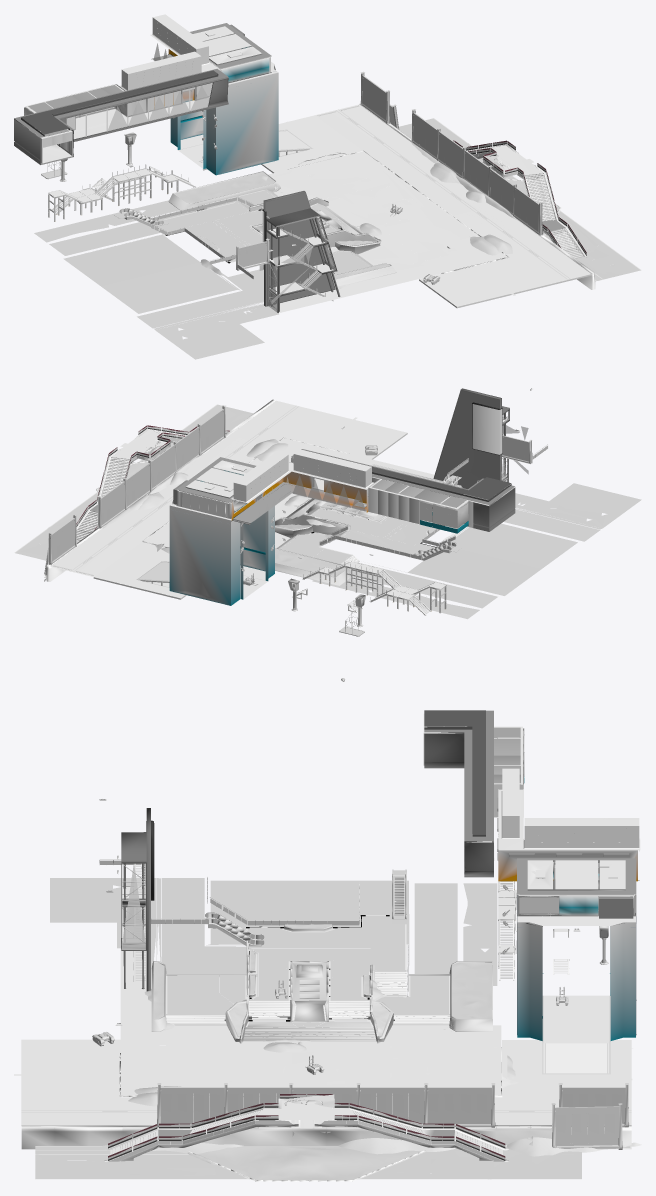
File: cell_83_57.fbx
3 renders of one model, top to bottom at view 1: azimuth 30°, elevation 25°; view 2: azimuth 150°, elevation 25°; view 3: azimuth 270°, elevation 25°, orthographic. The views are drawn at different scales.
Parts seen in each view (by area): view 1: SM_I_RoadFacility_Ground_H_14.mo, SM_I_RoadFacility_Ground_FutureTech_H_01.mo.001, SM_H_Building_FutureTech_HTerrace_01.mo, SM_H_Building_FutureTech_HLight_01_InterWall_09.mo, SM_I_RoadFacility_Ground_FutureTech_H_01B.mo.001, SM_H_Building_FutureTech_HStairs_03_ExterWall_01.mo, SM_H_Building_FutureTech_HStairs_04_ExterWall_01C.mo, SM_H_Building_FutureTech_HStairs_04_InterWall_01F.mo, SM_H_Building_FutureTech_HLight_01_InterWall_11D.mo, SM_H_Building_FutureTech_Bridge_01P.mo, SM_H_Building_FutureTech_HLight_01_InterWall_03.mo, SM_I_RoadFacility_Ground_H_15.mo (+11 smaller); view 2: SM_I_RoadFacility_Ground_H_14.mo, SM_H_Building_FutureTech_HLight_01_InterWall_09.mo, SM_I_RoadFacility_Ground_FutureTech_H_01.mo.001, SM_H_Building_FutureTech_HTerrace_01.mo, SM_I_RoadFacility_Ground_FutureTech_H_01B.mo.001, SM_H_Building_FutureTech_HLight_01_InterWall_11D.mo, SM_H_Building_FutureTech_HStairs_04_InterWall_01F.mo, SM_H_Building_FutureTech_HStairs_03_ExterWall_01.mo, SM_H_Building_FutureTech_HStairs_04_ExterWall_01C.mo, SM_H_Building_FutureTech_HLight_01_InterWall_03.mo, SM_H_Building_FutureTech_Bridge_01P.mo, SM_H_WalkwaySystem_MetalSupport_07.mo (+11 smaller); view 3: SM_I_RoadFacility_Ground_H_14.mo, SM_H_Building_FutureTech_HTerrace_01.mo, SM_I_RoadFacility_Ground_H_15.mo, SM_I_RoadFacility_Ground_FutureTech_H_01.mo.001, SM_I_RoadFacility_Ground_FutureTech_H_01B.mo.001, SM_H_Building_FutureTech_HLight_01_InterWall_09.mo, SM_H_Building_FutureTech_Bridge_01P.mo, SM_H_Building_FutureTech_HLight_01_InterWall_11D.mo, SM_H_Building_FutureTech_HStairs_04_ExterWall_01C.mo, SM_H_Building_FutureTech_HLight_01_InterWall_03.mo, SM_I_RoadFacility_Ground_H_14B.mo, SM_H_Building_FutureTech_HStairs_03_ExterWall_01.mo (+18 smaller).
Part boxes in pixels (bbox=[...]): SM_I_RoadFacility_Ground_H_14.mo: bbox=[261, 104, 595, 313]; SM_I_RoadFacility_Ground_FutureTech_H_01.mo.001: bbox=[101, 262, 278, 359]; SM_H_Building_FutureTech_HTerrace_01.mo: bbox=[156, 171, 396, 286]; SM_H_Building_FutureTech_HLight_01_InterWall_09.mo: bbox=[170, 62, 278, 175]; SM_I_RoadFacility_Ground_FutureTech_H_01B.mo.001: bbox=[34, 200, 200, 286]; SM_H_Building_FutureTech_HStairs_03_ExterWall_01.mo: bbox=[263, 191, 340, 312]; SM_H_Building_FutureTech_HStairs_04_ExterWall_01C.mo: bbox=[14, 68, 228, 164]; SM_H_Building_FutureTech_HStairs_04_InterWall_01F.mo: bbox=[17, 74, 216, 163]; SM_H_Building_FutureTech_HLight_01_InterWall_11D.mo: bbox=[119, 14, 221, 105]; SM_H_Building_FutureTech_Bridge_01P.mo: bbox=[453, 140, 587, 258]; SM_H_Building_FutureTech_HLight_01_InterWall_03.mo: bbox=[190, 23, 271, 83]; SM_I_RoadFacility_Ground_H_15.mo: bbox=[399, 118, 640, 281]; SM_I_RoadFacility_Ground_H_14.mo: bbox=[46, 399, 434, 599]; SM_H_Building_FutureTech_HLight_01_InterWall_09.mo: bbox=[169, 482, 275, 605]; SM_I_RoadFacility_Ground_FutureTech_H_01.mo.001: bbox=[451, 483, 641, 569]; SM_H_Building_FutureTech_HTerrace_01.mo: bbox=[275, 464, 462, 586]; SM_I_RoadFacility_Ground_FutureTech_H_01B.mo.001: bbox=[312, 549, 540, 619]; SM_H_Building_FutureTech_HLight_01_InterWall_11D.mo: bbox=[231, 449, 374, 524]; SM_H_Building_FutureTech_HStairs_04_InterWall_01F.mo: bbox=[293, 458, 514, 533]; SM_H_Building_FutureTech_HStairs_03_ExterWall_01.mo: bbox=[433, 388, 509, 489]; SM_H_Building_FutureTech_HStairs_04_ExterWall_01C.mo: bbox=[291, 449, 515, 531]; SM_H_Building_FutureTech_HLight_01_InterWall_03.mo: bbox=[173, 457, 262, 518]; SM_H_Building_FutureTech_Bridge_01P.mo: bbox=[76, 425, 229, 540]; SM_H_WalkwaySystem_MetalSupport_07.mo: bbox=[302, 561, 446, 615]; SM_I_RoadFacility_Ground_H_14.mo: bbox=[21, 950, 631, 1149]; SM_H_Building_FutureTech_HTerrace_01.mo: bbox=[151, 914, 492, 1043]; SM_I_RoadFacility_Ground_H_15.mo: bbox=[35, 1146, 630, 1181]; SM_I_RoadFacility_Ground_FutureTech_H_01.mo.001: bbox=[50, 878, 309, 976]; SM_I_RoadFacility_Ground_FutureTech_H_01B.mo.001: bbox=[309, 880, 497, 985]; SM_H_Building_FutureTech_HLight_01_InterWall_09.mo: bbox=[517, 916, 636, 1041]; SM_H_Building_FutureTech_Bridge_01P.mo: bbox=[104, 1094, 508, 1161]; SM_H_Building_FutureTech_HLight_01_InterWall_11D.mo: bbox=[494, 768, 640, 881]; SM_H_Building_FutureTech_HStairs_04_ExterWall_01C.mo: bbox=[424, 710, 493, 877]; SM_H_Building_FutureTech_HLight_01_InterWall_03.mo: bbox=[517, 858, 636, 918]; SM_I_RoadFacility_Ground_H_14B.mo: bbox=[14, 949, 632, 1136]; SM_H_Building_FutureTech_HStairs_03_ExterWall_01.mo: bbox=[121, 808, 150, 991].
Size of the model in its own units: 105 by 40.26 by 94.87.
